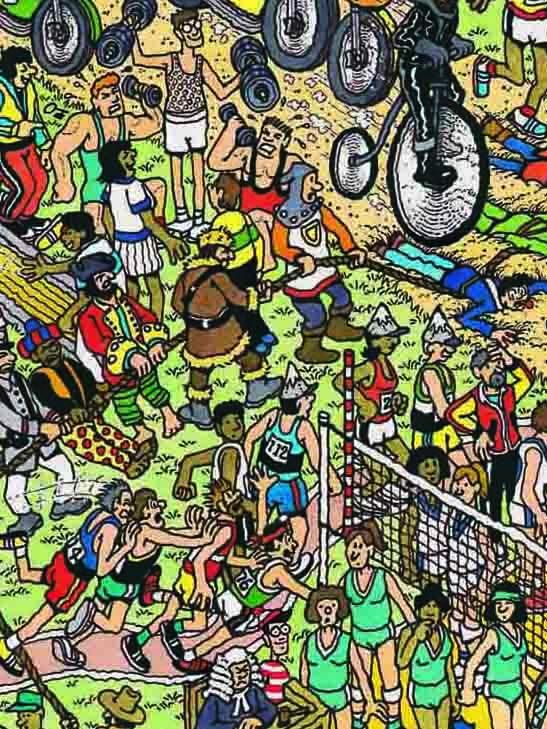waldo: (253, 604, 294, 656)
